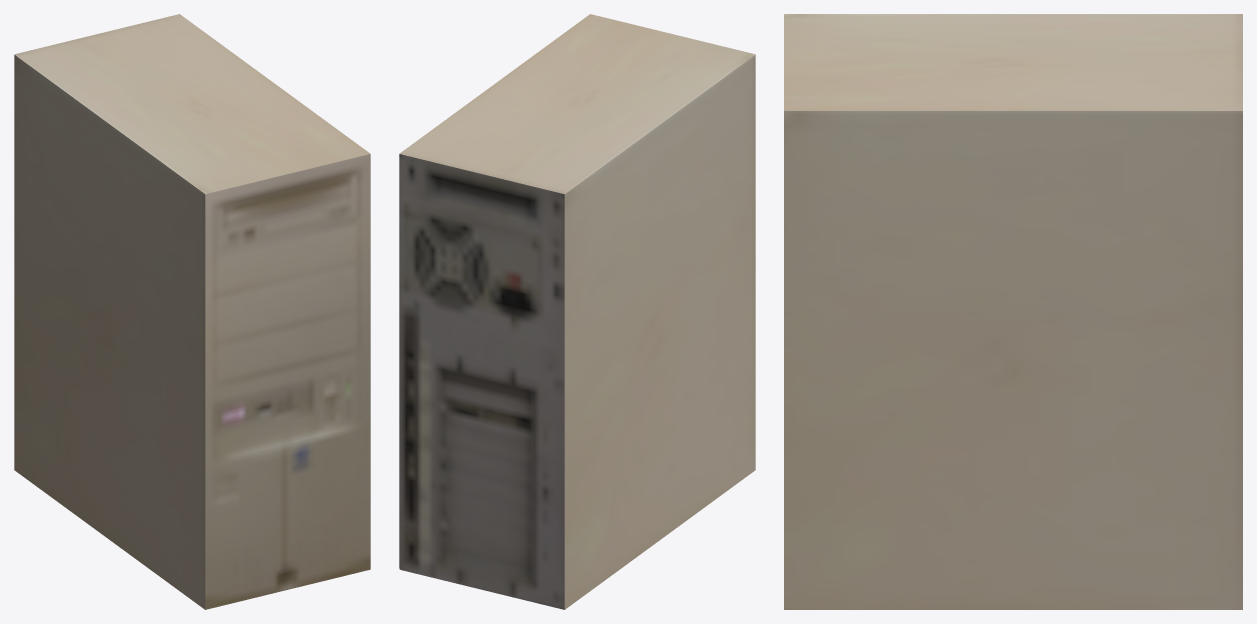
The model's file is computer.fbx.
3 renders of one model, left to right at view 1: azimuth 30°, elevation 25°; view 2: azimuth 150°, elevation 25°; view 3: azimuth 270°, elevation 25°, orthographic. The views are drawn at different scales.
Visible parts, largest first — view 1: Computer; view 2: Computer; view 3: Computer.
Part boxes in pixels (x1,y1,x2,y2): Computer: (14, 14, 370, 609); Computer: (399, 14, 755, 609); Computer: (784, 14, 1242, 609).
Size of the model in its own units: 50 by 25 by 60.
